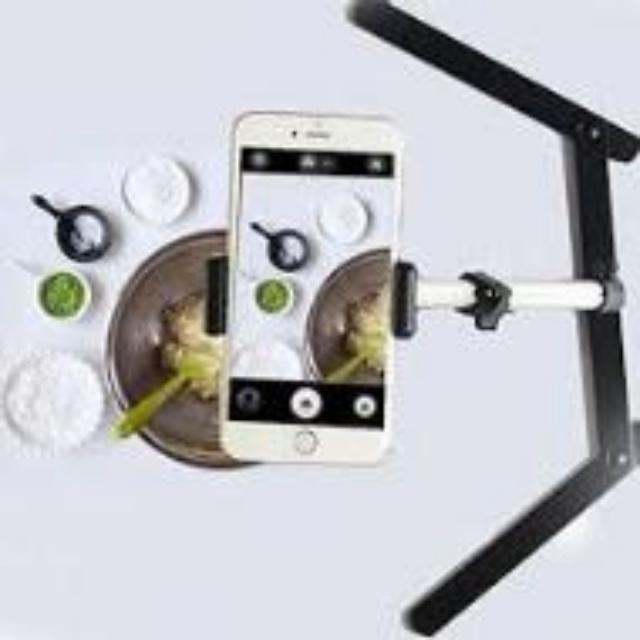phone: (210, 100, 414, 464)
